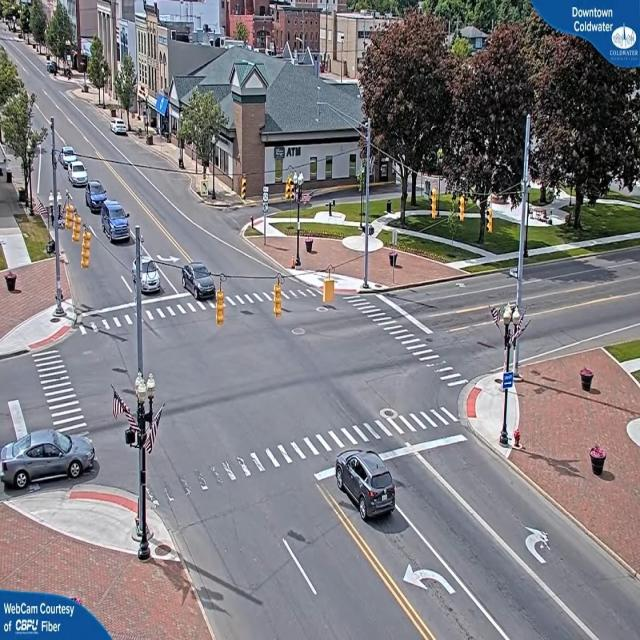car: (4, 423, 99, 488), (337, 452, 400, 523), (103, 203, 132, 245), (182, 263, 216, 297), (137, 256, 163, 296), (62, 152, 86, 188), (86, 180, 105, 212), (112, 121, 130, 138)
